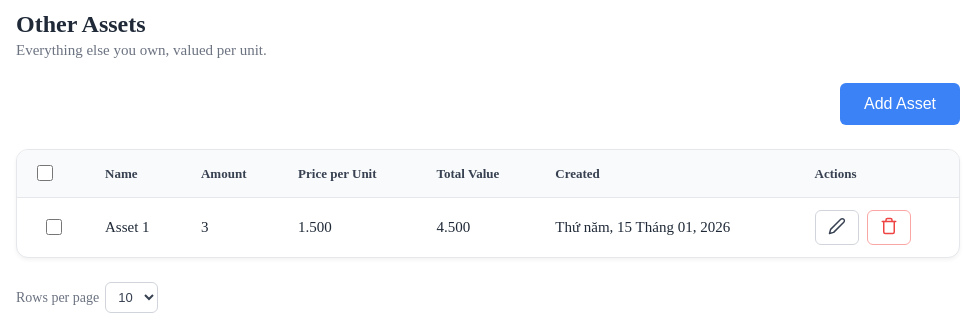
OtherAssets › surfaces delete errors on the page banner
Expected: the text "Asset 1" is shown, [89,198,185,257]
Click the button titled "Delete": point(888, 228) [866,210,910,245]
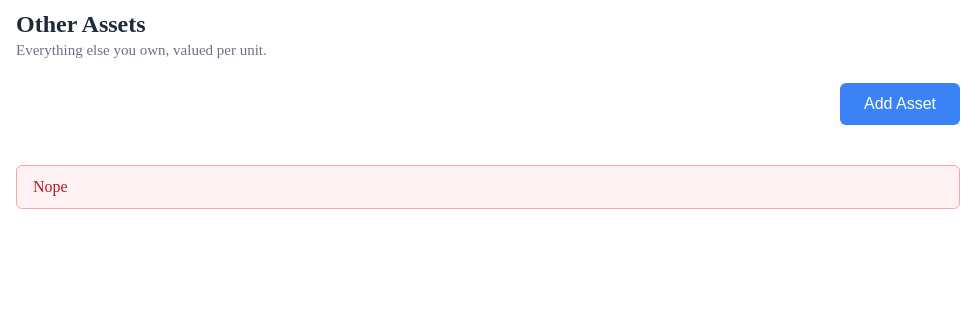
Result: the text "Nope" is shown at [16,165,960,209]
